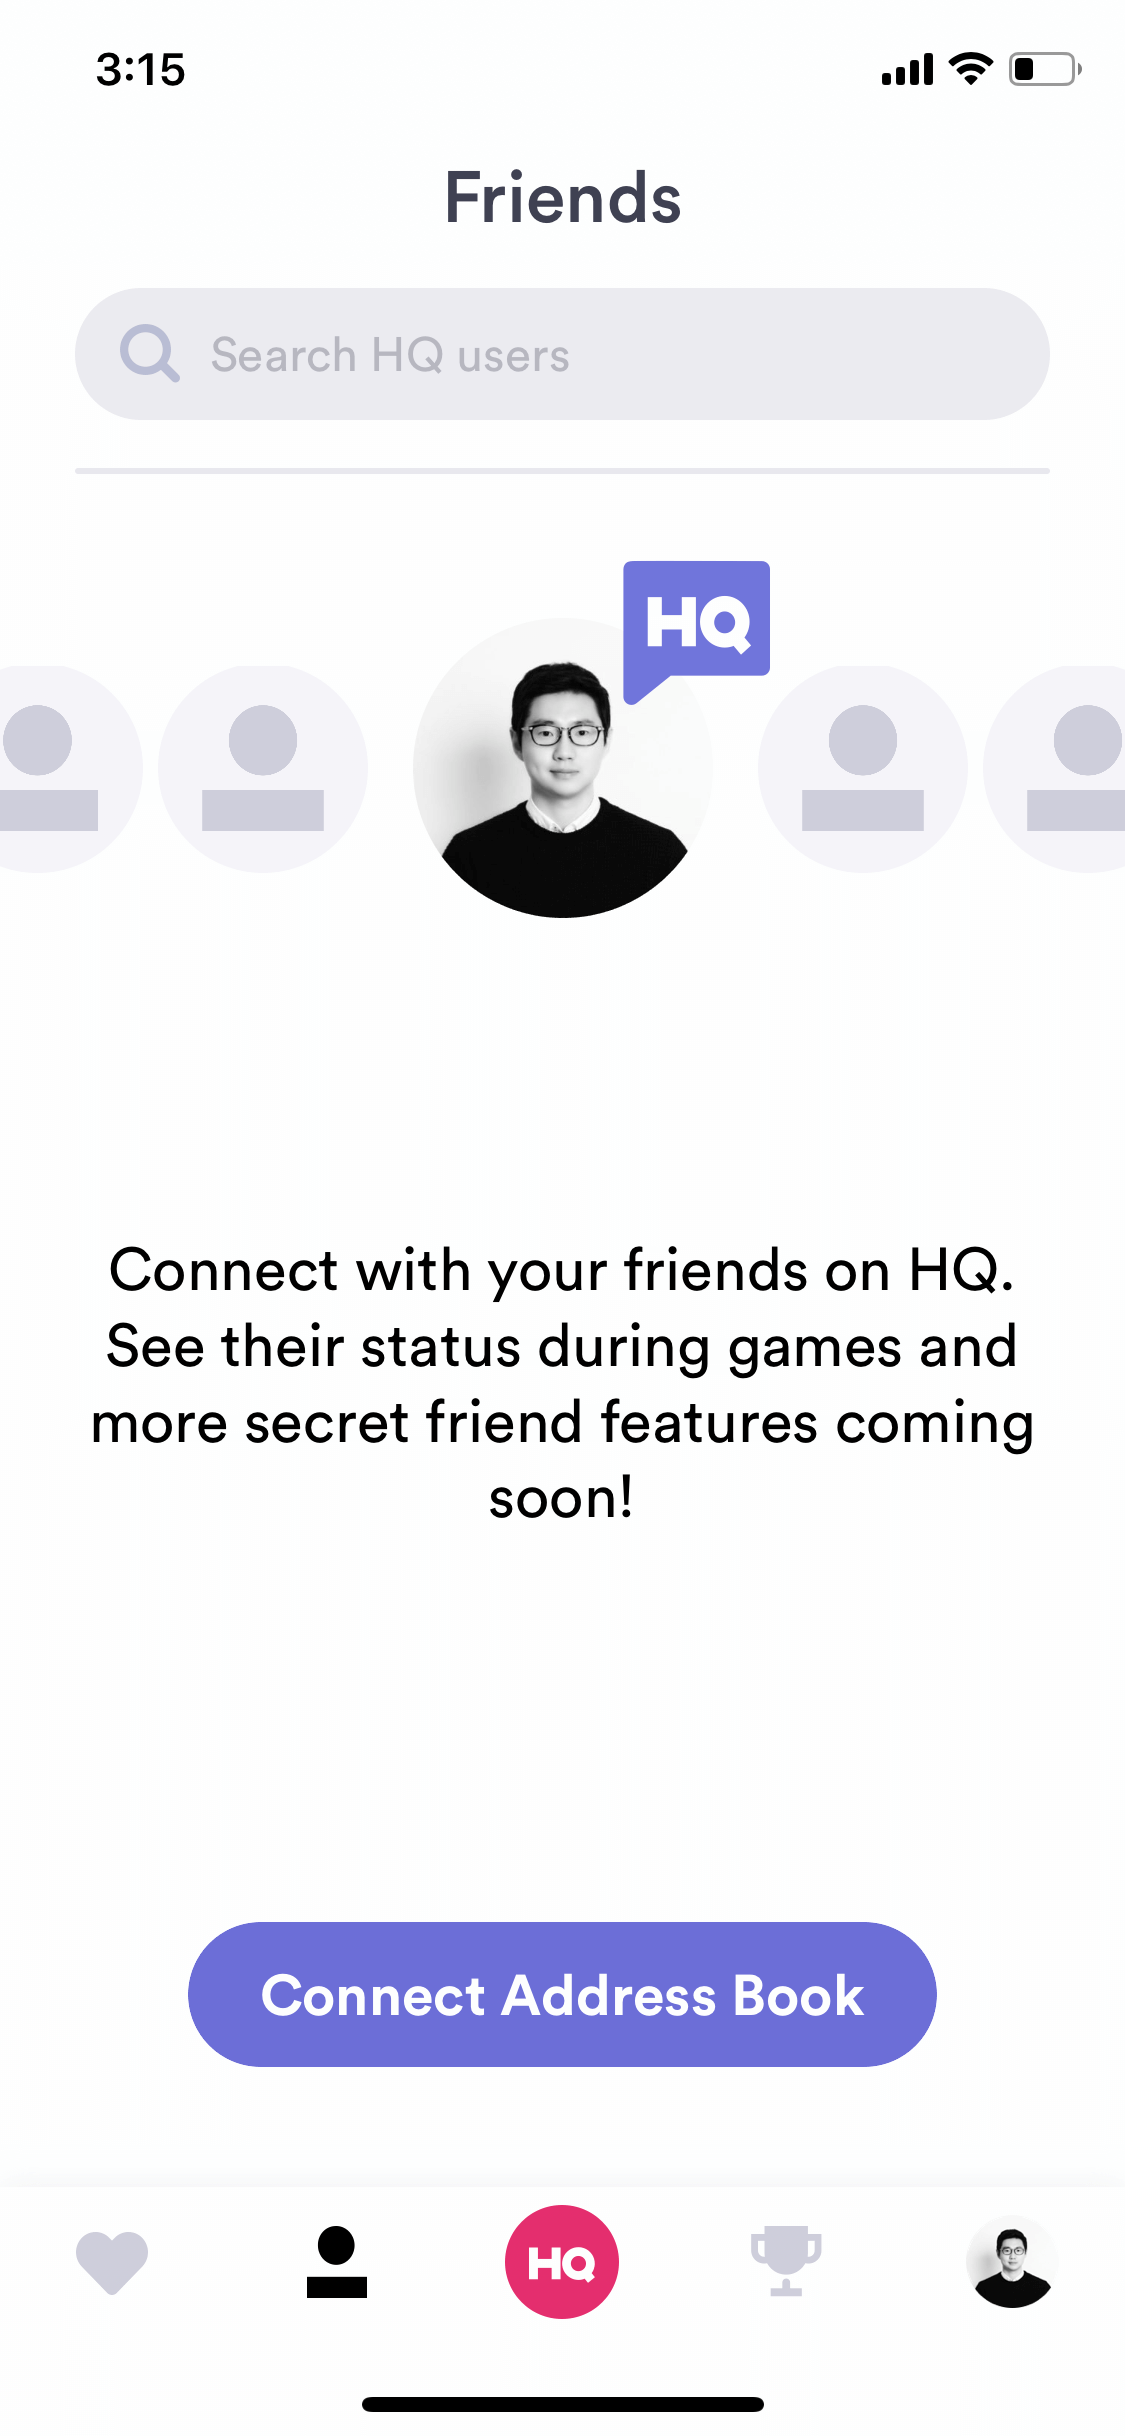Buttons: (174, 1898, 960, 2094)
